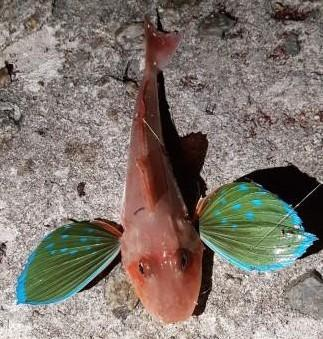fish: (16, 16, 319, 325)
